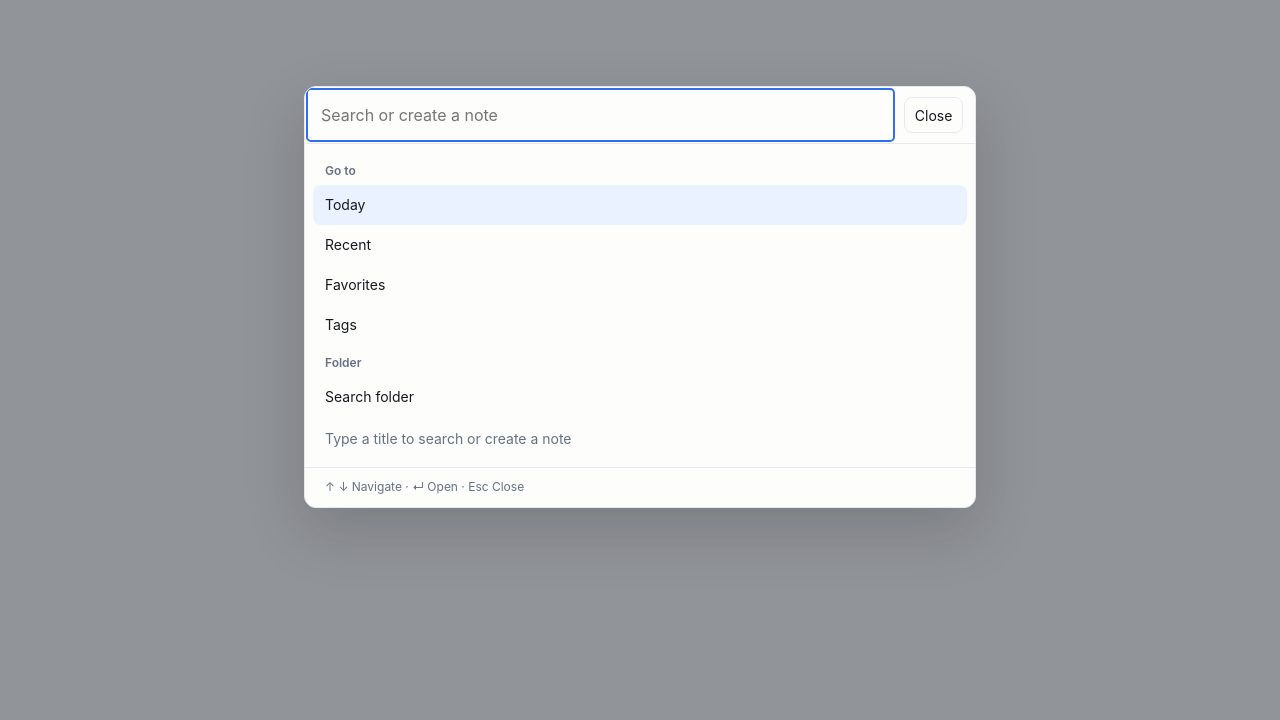
NotePicker › opens tags from Links and lists lines for an exact tag
The image size is (1280, 720).
Click the button with test id "picker-tags". click: (341, 324)
box: [313,305,967,345]
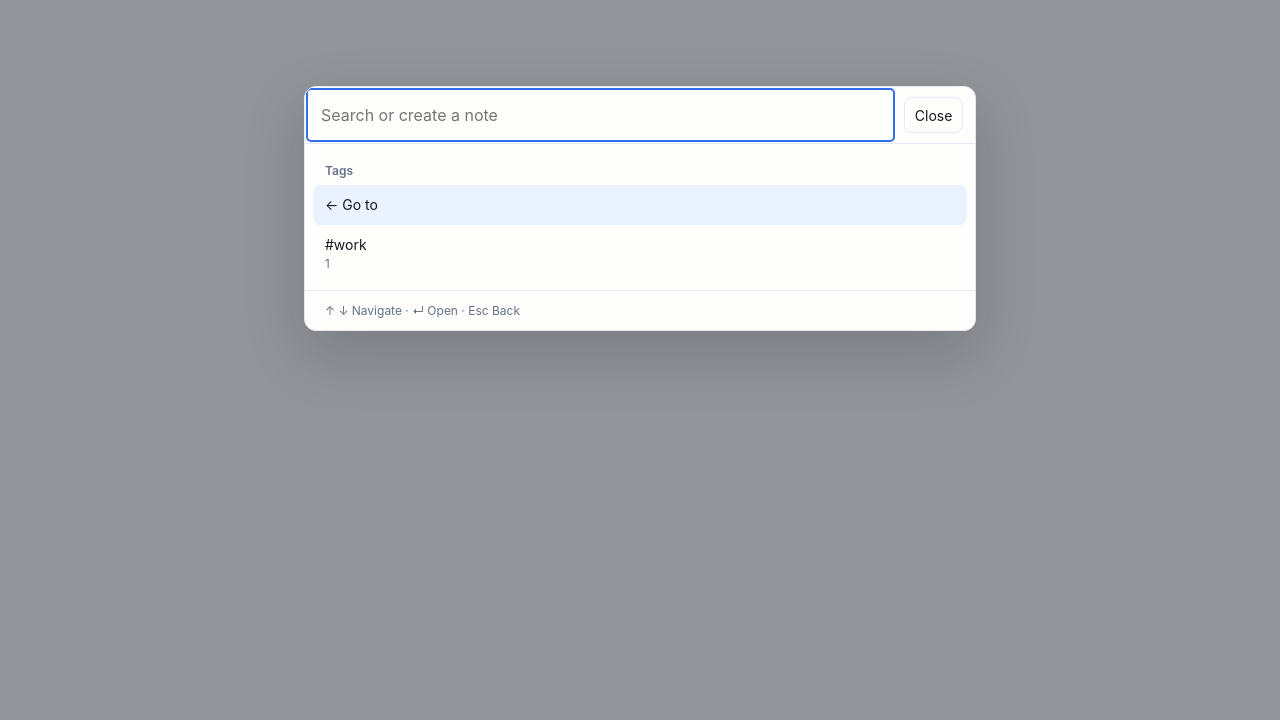
Expected: the text "#work" is shown, [325,234,367,255]
Click the button with test id "picker-tag-work". click: (346, 244)
box: [313,225,967,282]
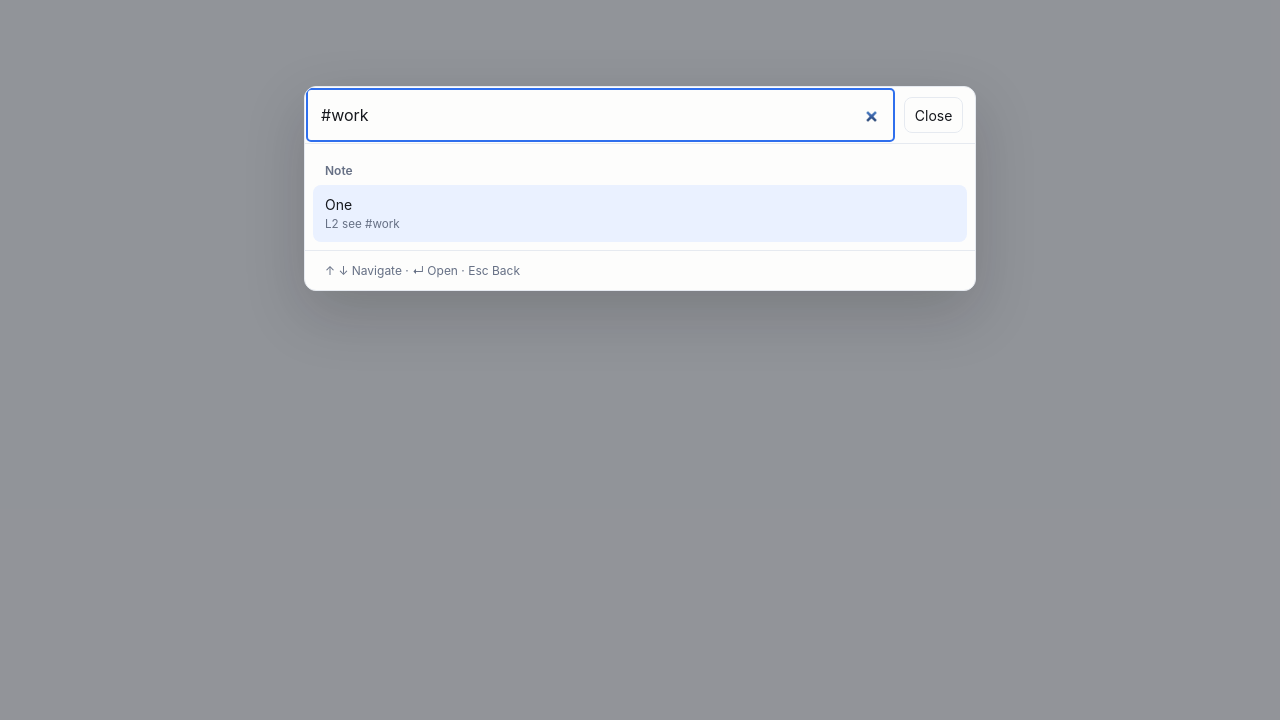
Expected: the search field named "Search or create a note" holds "#work", [305,87,896,143]
Expected: the button with test id "picker-tag-hit" shows "One", [313,185,967,242]
Expected: the button with test id "picker-tag-hit" shows "L2", [313,185,967,242]
